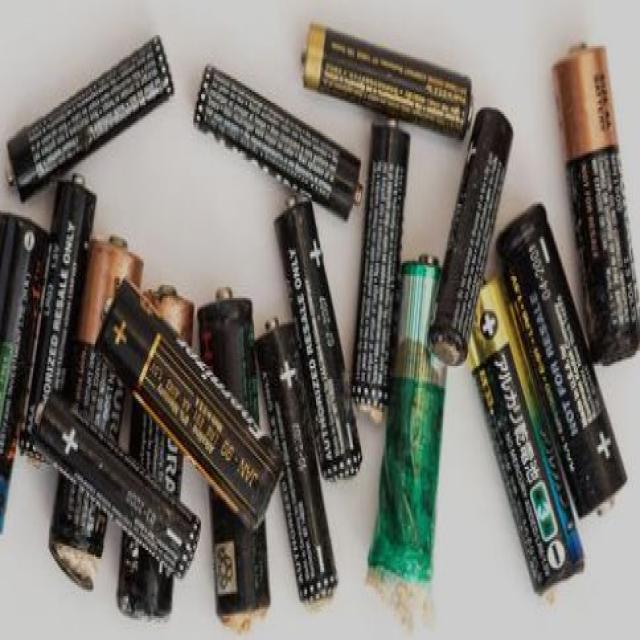electronic: (78, 260, 294, 542), (452, 270, 584, 609), (538, 20, 640, 395), (0, 22, 194, 213), (357, 242, 454, 622), (186, 42, 367, 237), (415, 82, 521, 382)
